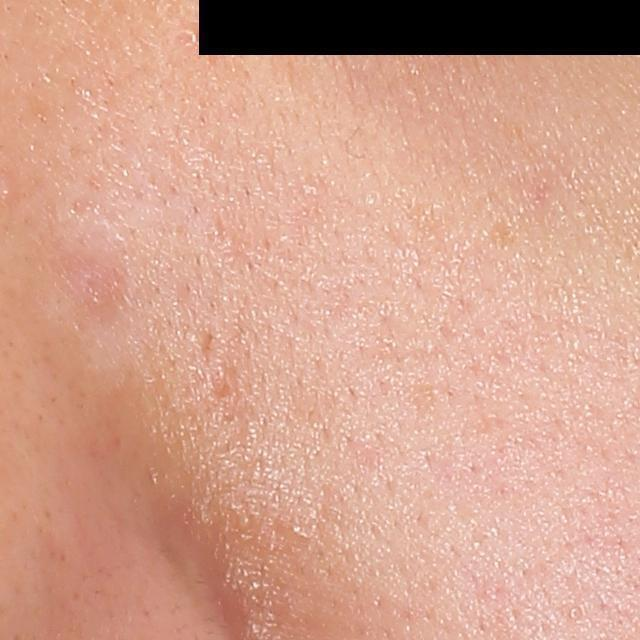comedo: (566, 605, 582, 622)
